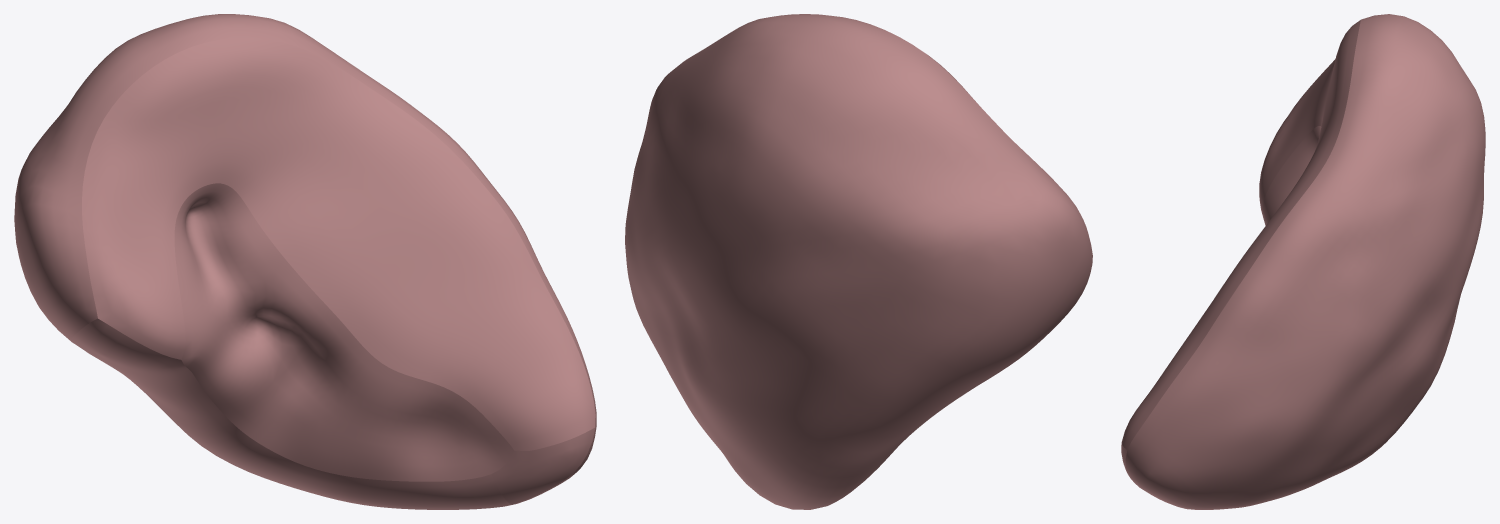
Rendered from VH_F_Spleen.glb.
3 renders of one model, left to right at view 1: azimuth 30°, elevation 25°; view 2: azimuth 150°, elevation 25°; view 3: azimuth 270°, elevation 25°, orthographic. The views are drawn at different scales.
Parts seen in each view (by area): view 1: VHF_gastric_surface_of_spleen, VHF_hilum_of_spleen, VHF_diaphragmatic_surface_of_spleen, VHF_renal_surface_of_spleen, VHF_colic_surface_of_spleen; view 2: VHF_diaphragmatic_surface_of_spleen; view 3: VHF_diaphragmatic_surface_of_spleen, VHF_gastric_surface_of_spleen, VHF_hilum_of_spleen.
Part boxes in pixels (x1=…): VHF_gastric_surface_of_spleen: x1=82, y1=38, x2=595, y2=450; VHF_hilum_of_spleen: x1=174, y1=183, x2=514, y2=481; VHF_diaphragmatic_surface_of_spleen: x1=14, y1=14, x2=596, y2=508; VHF_renal_surface_of_spleen: x1=71, y1=318, x2=511, y2=509; VHF_colic_surface_of_spleen: x1=491, y1=428, x2=595, y2=504; VHF_diaphragmatic_surface_of_spleen: x1=625, y1=14, x2=1092, y2=509; VHF_diaphragmatic_surface_of_spleen: x1=1125, y1=14, x2=1485, y2=509; VHF_gastric_surface_of_spleen: x1=1121, y1=20, x2=1360, y2=449; VHF_hilum_of_spleen: x1=1262, y1=126, x2=1321, y2=225.
Size of the model in its own units: 0.0953 by 0.0933 by 0.0755.
